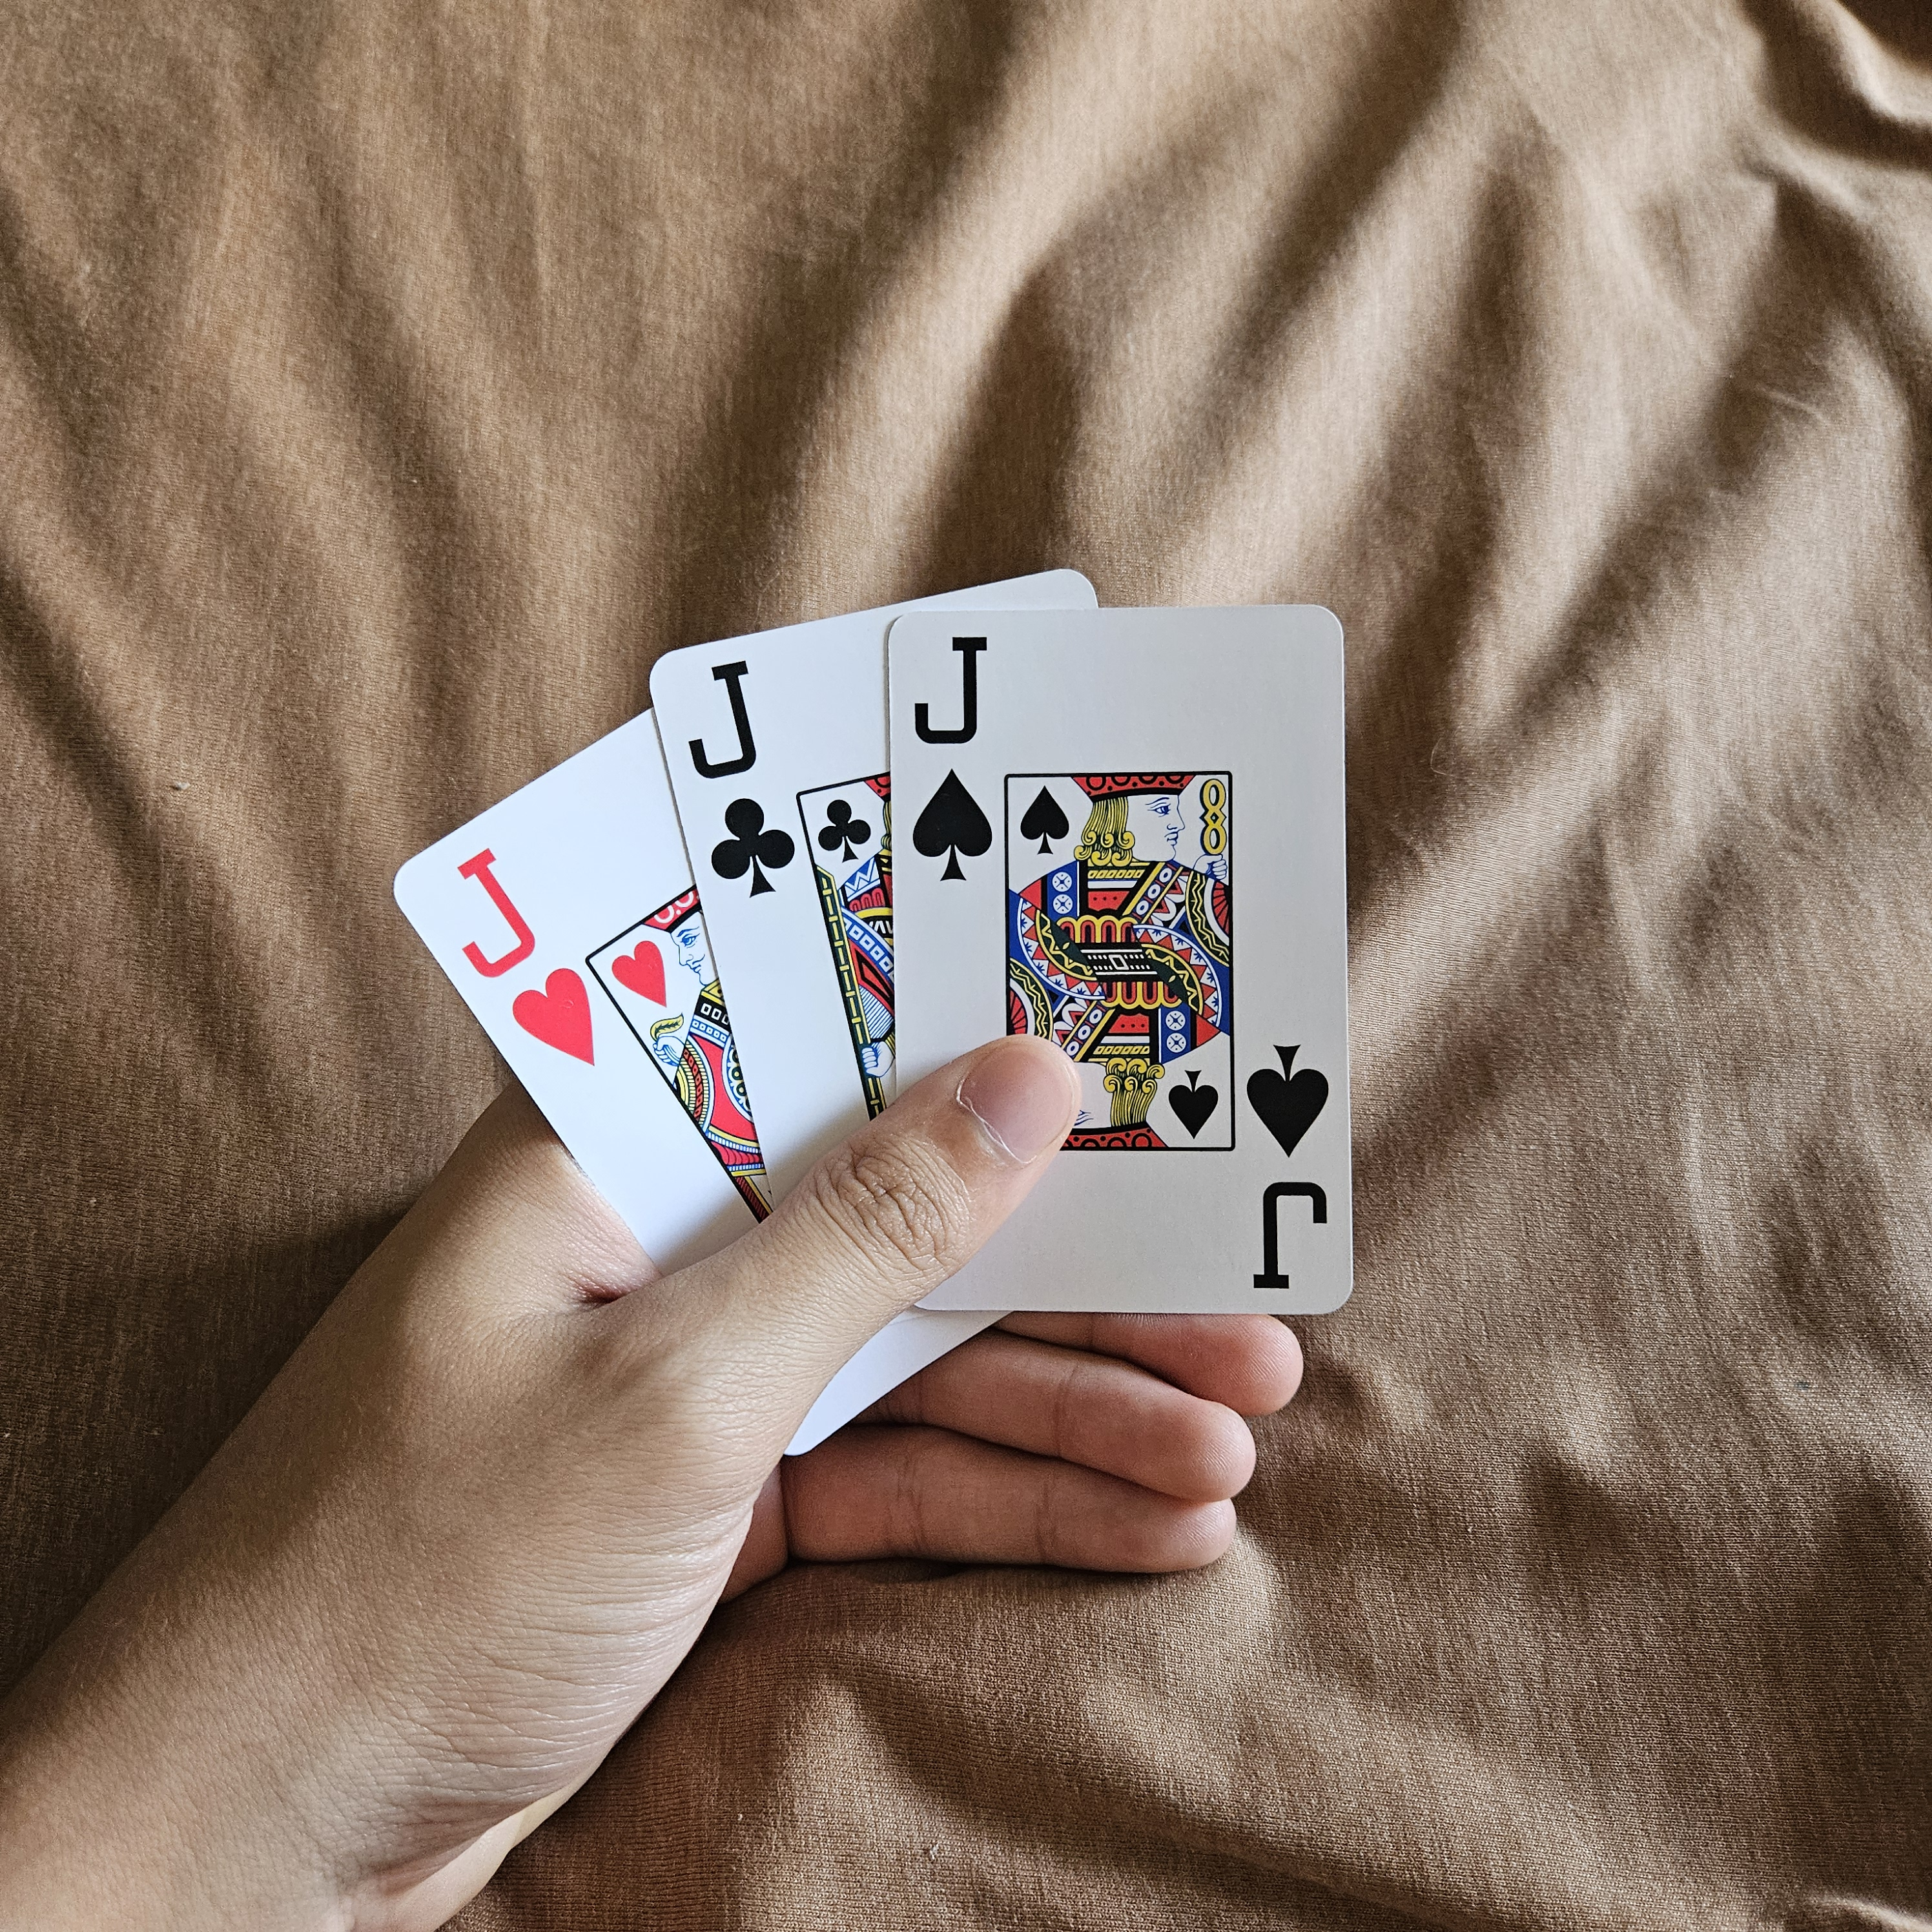JC: (441, 837, 614, 1076)
JE: (1228, 1031, 1352, 1313), (892, 616, 1010, 895)
JP: (669, 644, 816, 911)
